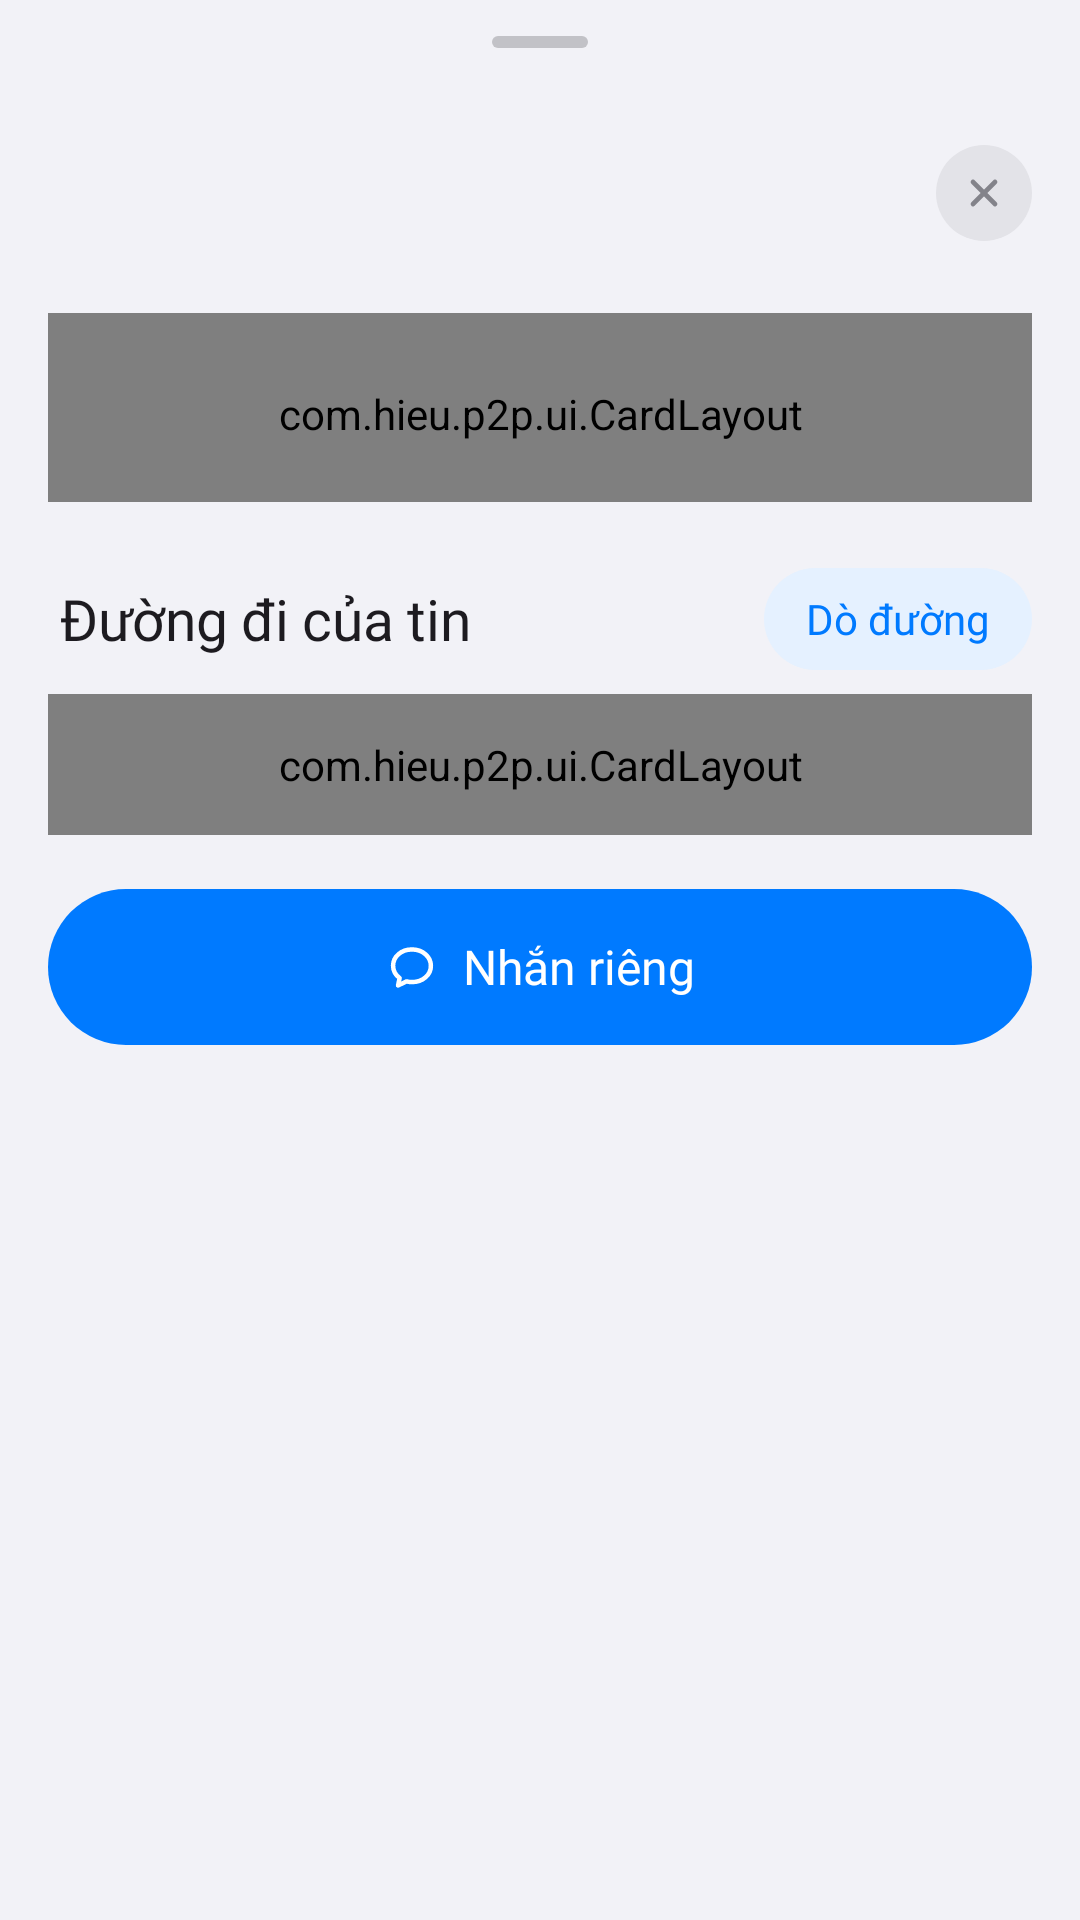

Icon bounding boxes for this 1080×1920 phone screenshot, format (x1, y1, x2, y2):
Đóng: (936, 145, 1032, 241)
